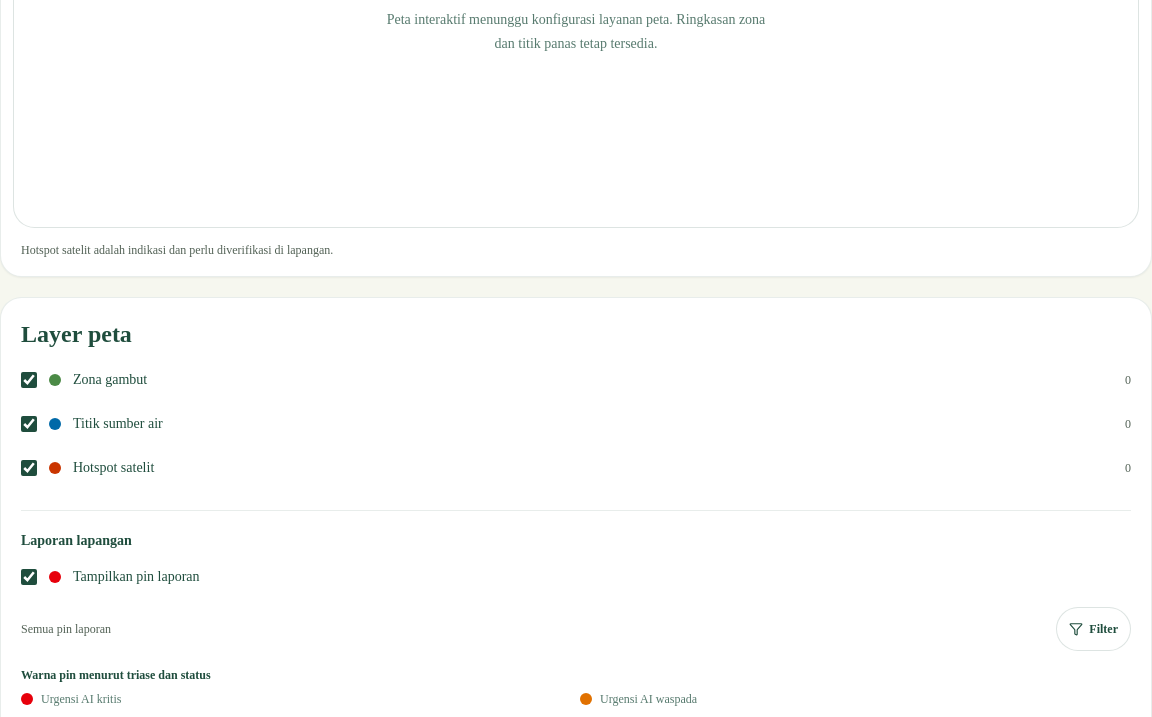
Test: keeps report filters visible when the map has no configured viewport
The width and height of the screenshot is (1152, 717).
(page scrolled)
Expected: the checkbox labelled "Tampilkan pin laporan" is shown, [21,569,37,585]
Click the checkbox labelled "Titik sumber air" at [29, 424], box [21,416,37,432]
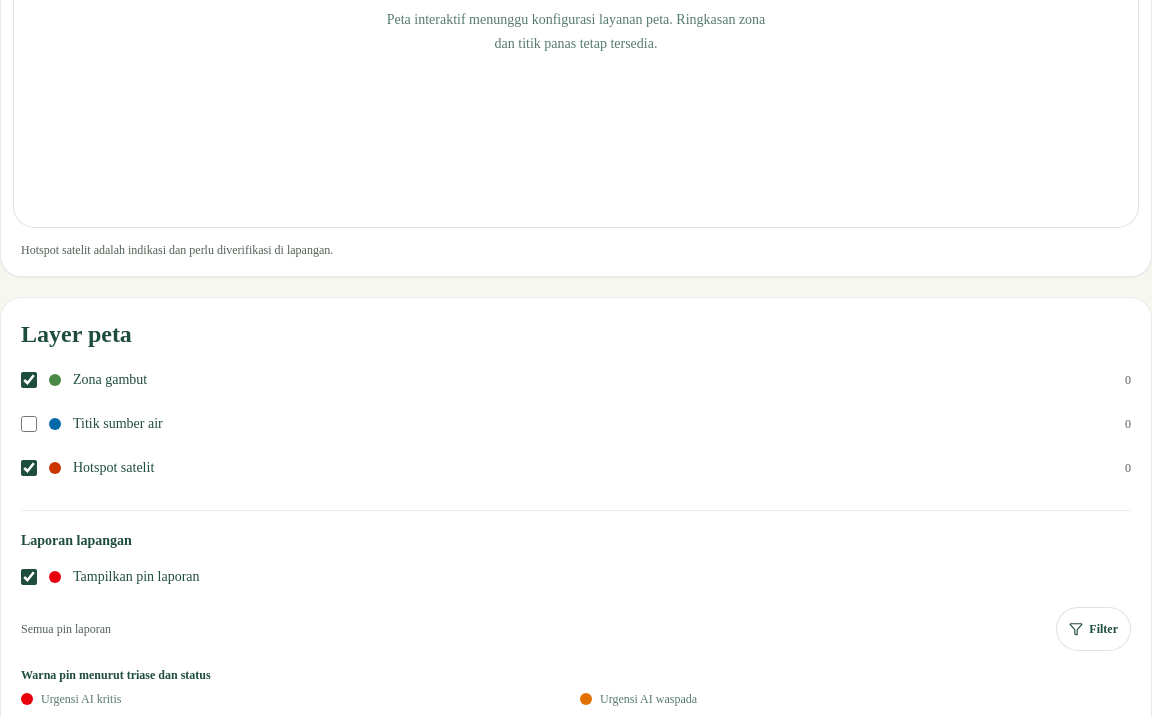
Result: the checkbox labelled "Titik sumber air" is not checked
Click the checkbox labelled "Titik sumber air" at [29, 424], box [21,416,37,432]
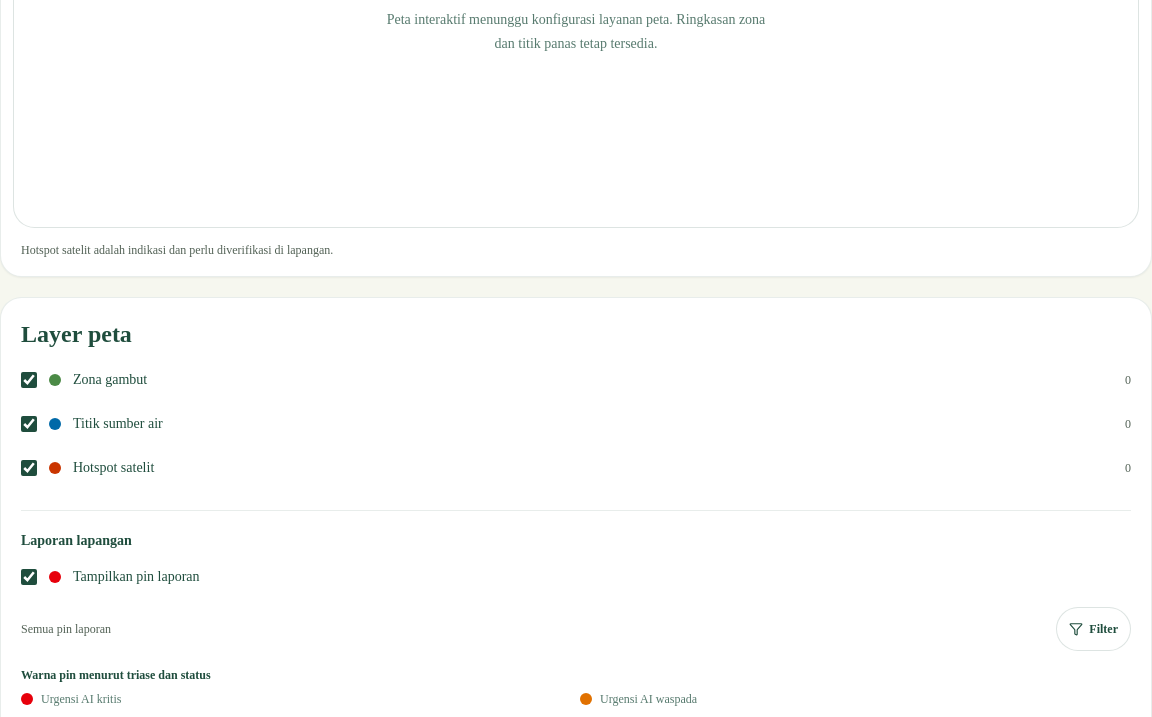
Result: the checkbox labelled "Titik sumber air" is checked at [21,416,37,432]
Click the button "Filter" at [1094, 629], box [1056,607,1131,651]
(page scrolled)
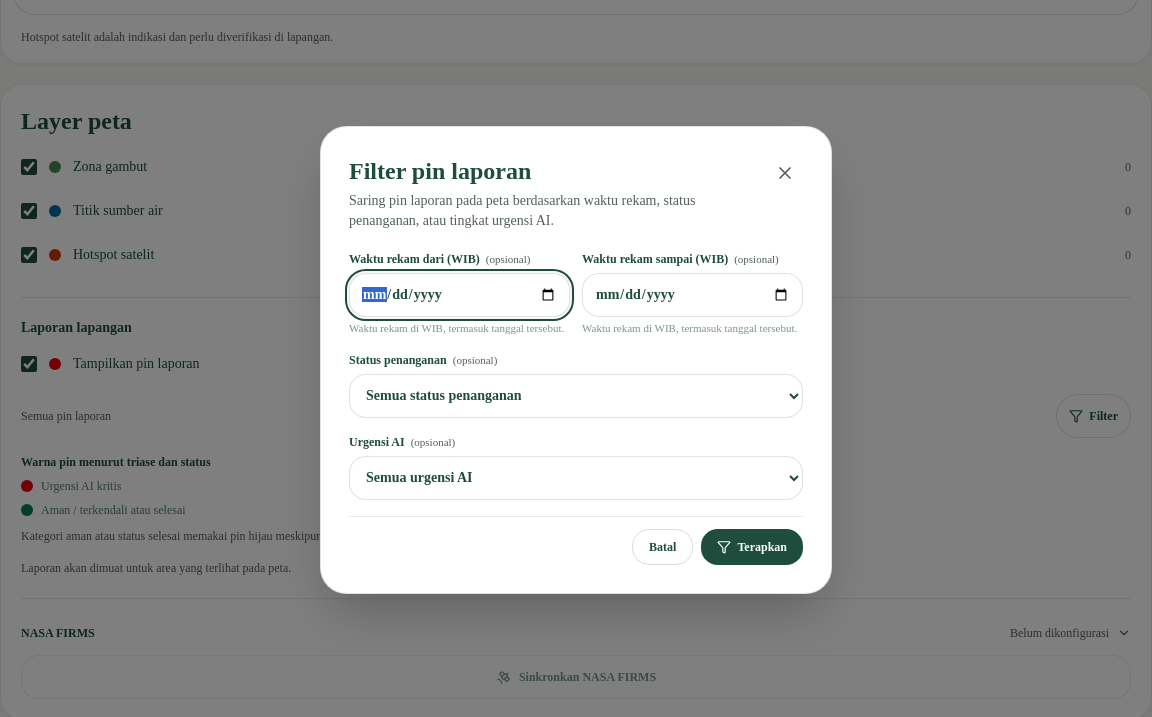
Expected: the element named "Keterangan warna status pin laporan" is shown, [21,455,761,543]
Result: the dropdown labelled "Status penanganan (opsional)" is shown at [349,374,803,418]
Result: the dropdown labelled "Urgensi AI (opsional)" is shown at [349,456,803,500]
